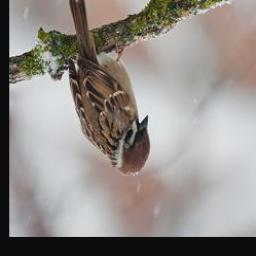Sparrow: (66, 0, 151, 178)
